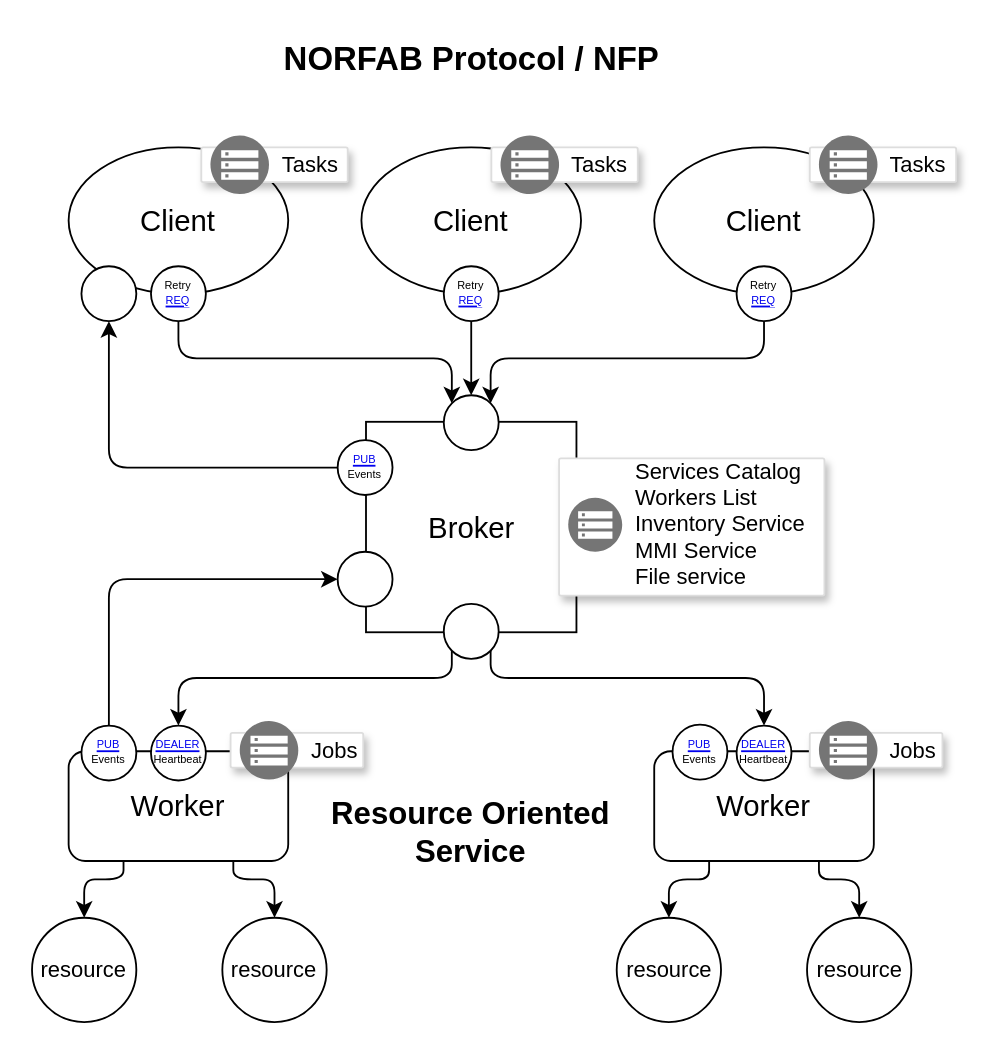
The diagram is 999 pixels wide and 1054 high, and some of its shapes have lost their labels. Each missing label, with the centre of its shape:
Heartbeat ROUTER: point (470, 630)
Monitor SUB: point (108, 292)
ROUTER Queue: point (470, 421)
Store SUB: point (364, 578)
